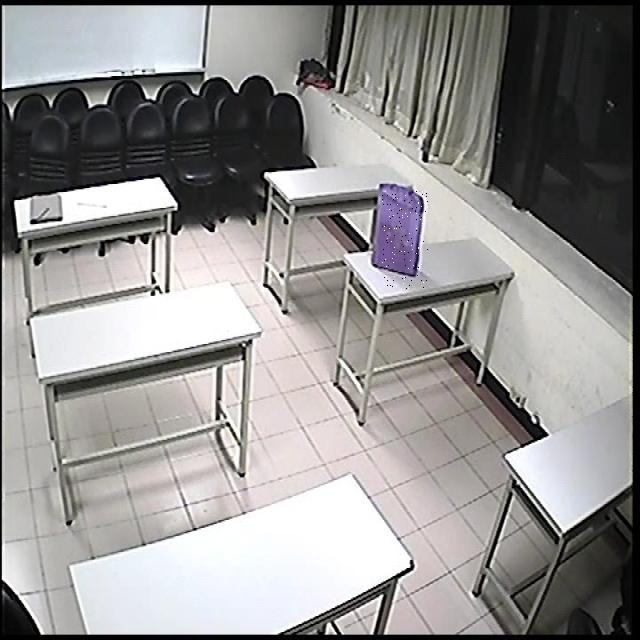abandoned-object: (382, 190, 429, 289)
